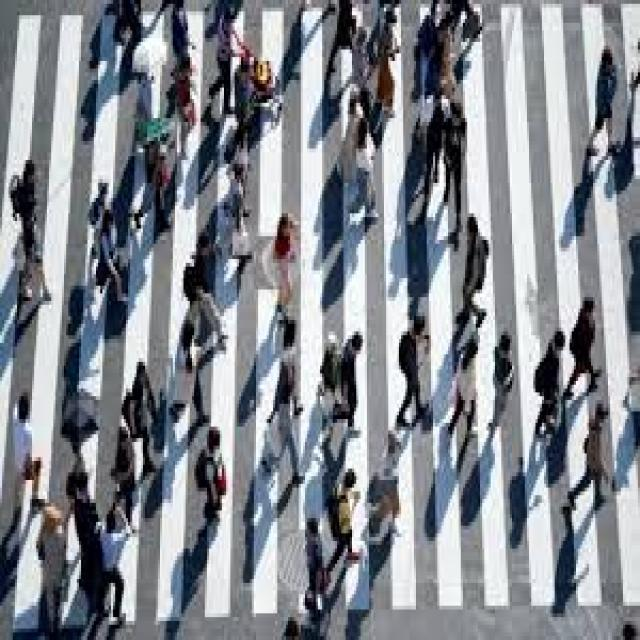Pedestrians: (8, 152, 59, 305), (30, 495, 72, 629), (92, 499, 134, 629), (192, 427, 235, 537), (395, 312, 435, 427), (572, 404, 610, 510), (264, 214, 303, 316), (326, 465, 363, 571), (458, 210, 491, 328), (586, 46, 620, 156), (8, 392, 45, 492), (534, 332, 568, 434), (570, 294, 604, 396), (448, 335, 480, 442), (491, 332, 514, 434)
